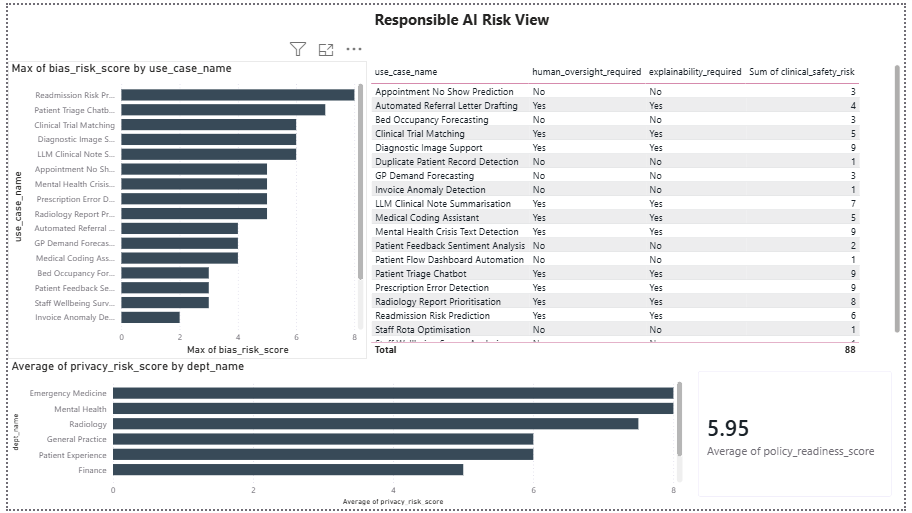

Layout of this report page (visuals, bound fields, positions):
{"tool":"powerbi","page":{"name":"Responsible AI Risk View","canvas":[1280,720],"ordinal":1},"visuals":[{"type":"clusteredBarChart","fields":{"Category":["ai_use_cases.use_case_name"],"Y":["Max(risk_assessments.bias_risk_score)"]},"box":[0,80,512.9,425.7],"z":0},{"type":"clusteredBarChart","fields":{"Category":["departments.dept_name"],"Y":["Avg(risk_assessments.privacy_risk_score)"]},"box":[0,505.7,968.6,214.3],"z":1000},{"type":"tableEx","fields":{"Values":["ai_use_cases.use_case_name","risk_assessments.human_oversight_required","risk_assessments.explainability_required","Sum(risk_assessments.clinical_safety_risk)"]},"box":[512.9,80,767.1,425.7],"z":2000},{"type":"cardVisual","fields":{"Data":["Avg(risk_assessments.policy_readiness_score)"]},"box":[968.6,505.7,311.4,214.3],"z":3000},{"type":"textbox","box":[512.9,0,270,44.3],"z":3001}]}

Visuals, with their boxes in screenshot pixels (x1, y1, x2, y2), scaled from the page's 1280x720 canvas onto the 912x513 screenshot:
clusteredBarChart - ai_use_cases.use_case_name x Max(risk_assessments.bias_risk_score): 0, 57, 365, 360
clusteredBarChart - departments.dept_name x Avg(risk_assessments.privacy_risk_score): 0, 360, 690, 512
tableEx - ai_use_cases.use_case_name x risk_assessments.human_oversight_required: 365, 57, 911, 360
cardVisual - Avg(risk_assessments.policy_readiness_score): 690, 360, 911, 512
textbox: 365, 0, 558, 32
